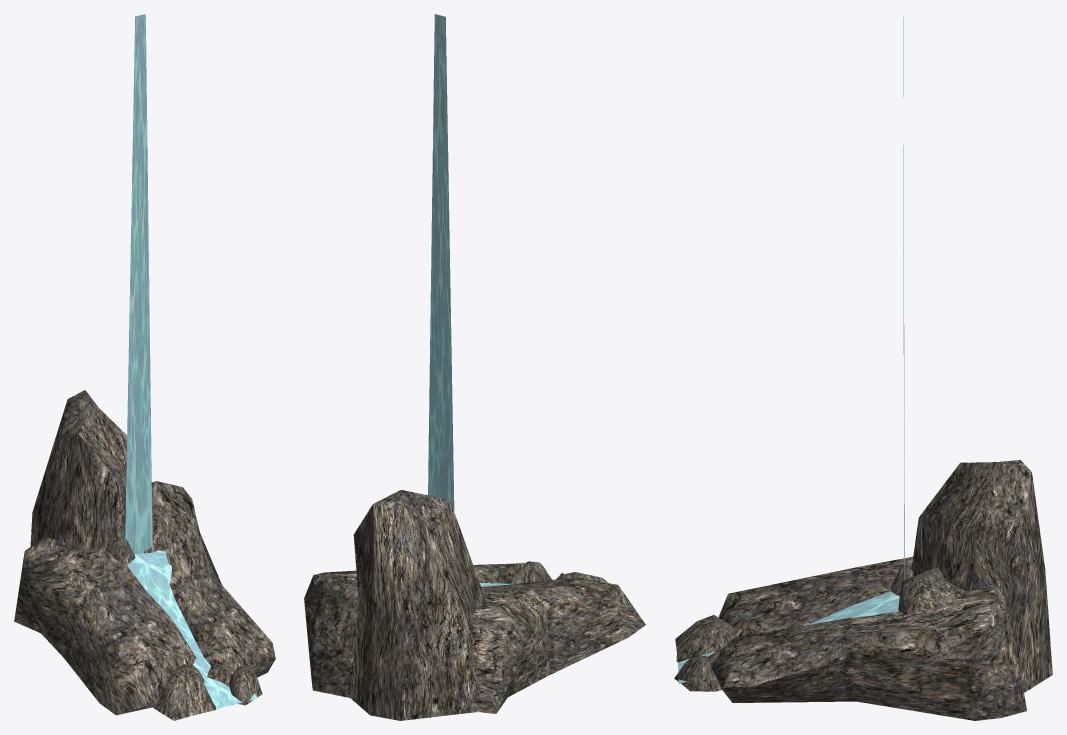
Rendered from pir_m_prp_cav_waterfall_rockpool.fbx.
The picture shows the model from 3 angles, left to right: view 1: azimuth 30°, elevation 25°; view 2: azimuth 150°, elevation 25°; view 3: azimuth 270°, elevation 25°; orthographic projection. The views are drawn at different scales.
Parts seen in each view (by area): view 1: rock, water, water_base; view 2: rock, water; view 3: rock, water_base.
Part boxes in pixels (x1,y1,x2,y2): rock: [14, 390, 275, 720]; water: [125, 14, 152, 554]; water_base: [127, 550, 257, 708]; rock: [304, 490, 645, 720]; water: [428, 14, 454, 511]; rock: [674, 460, 1052, 720]; water_base: [678, 591, 899, 683].
Bounding box in the file's own units: 2754 × 8258 × 4279.
2 materials, 2 textured.
